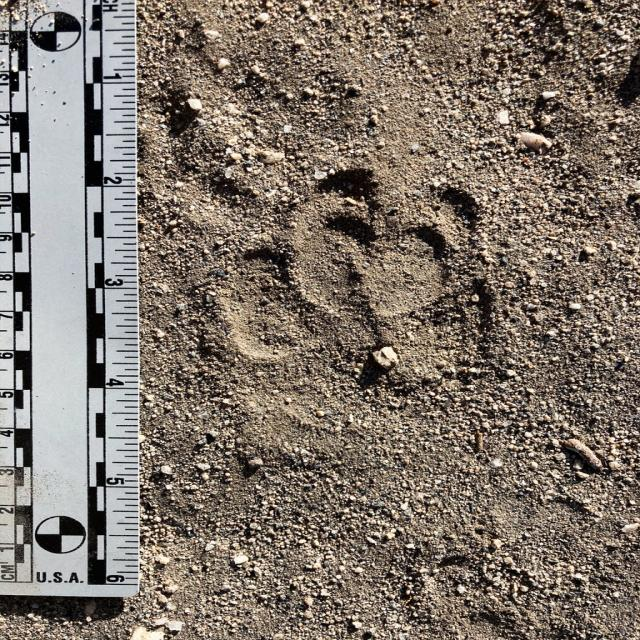canid: (214, 201, 498, 465)
